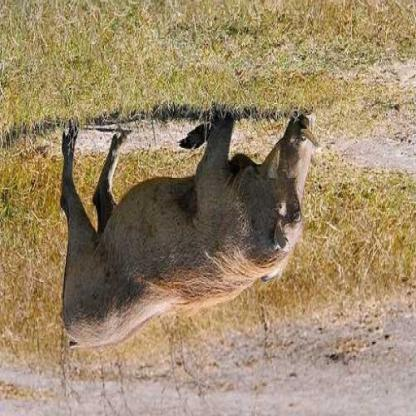boar: (64, 91, 335, 364)
